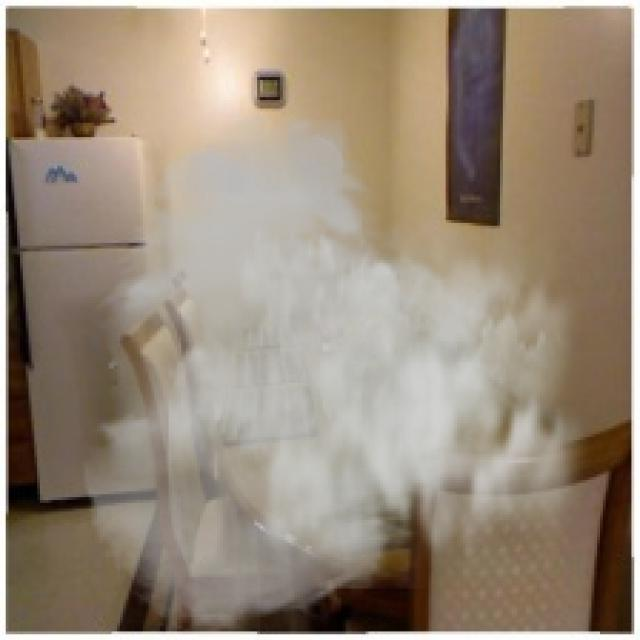smoke: (80, 109, 614, 637)
